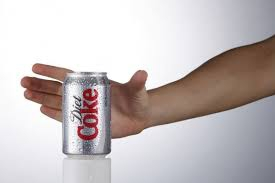can: (61, 70, 113, 158)
